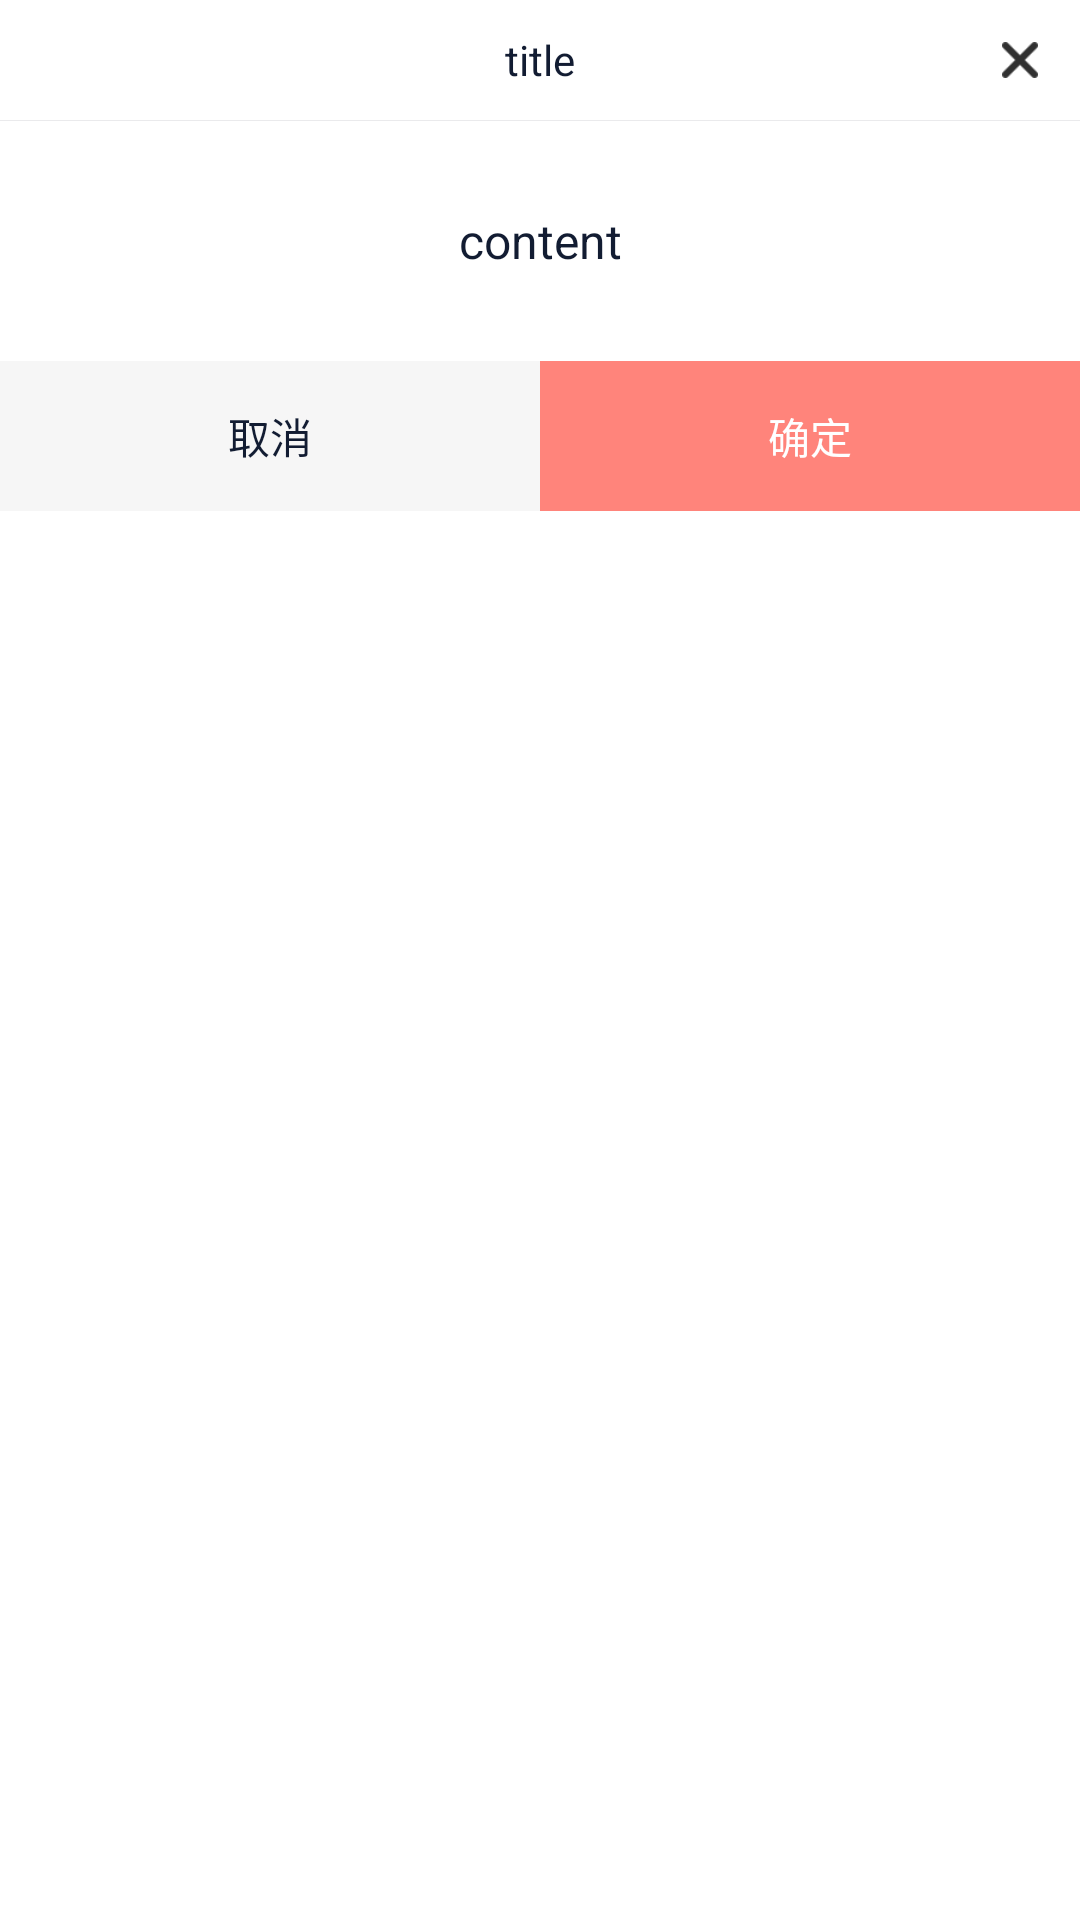

Icon bounding boxes for this 1080 × 1920 phone screenshot, format (x1, y1, x2, y2):
close: (1002, 42, 1038, 78)
